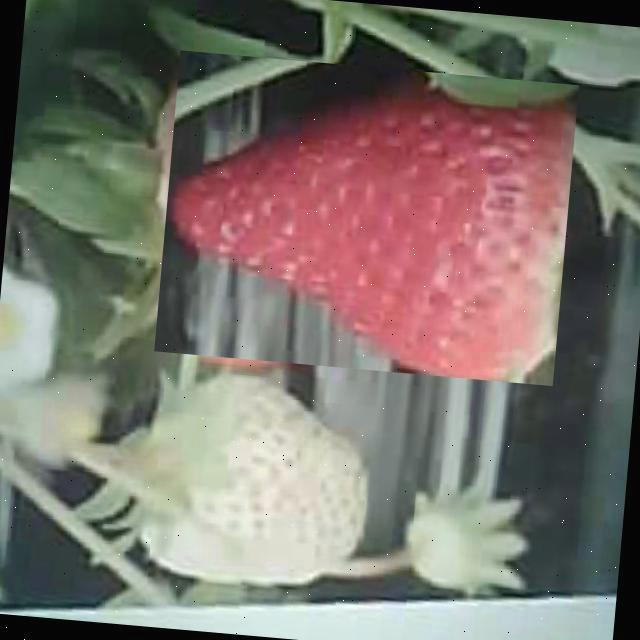ripe: (155, 50, 580, 386)
